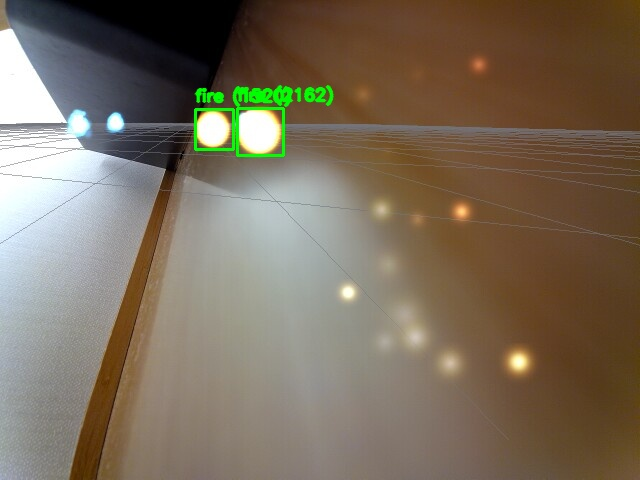fire: (237, 108, 283, 155), (195, 109, 233, 149)
